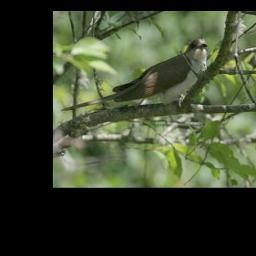Cuckoo: (59, 37, 207, 114)
